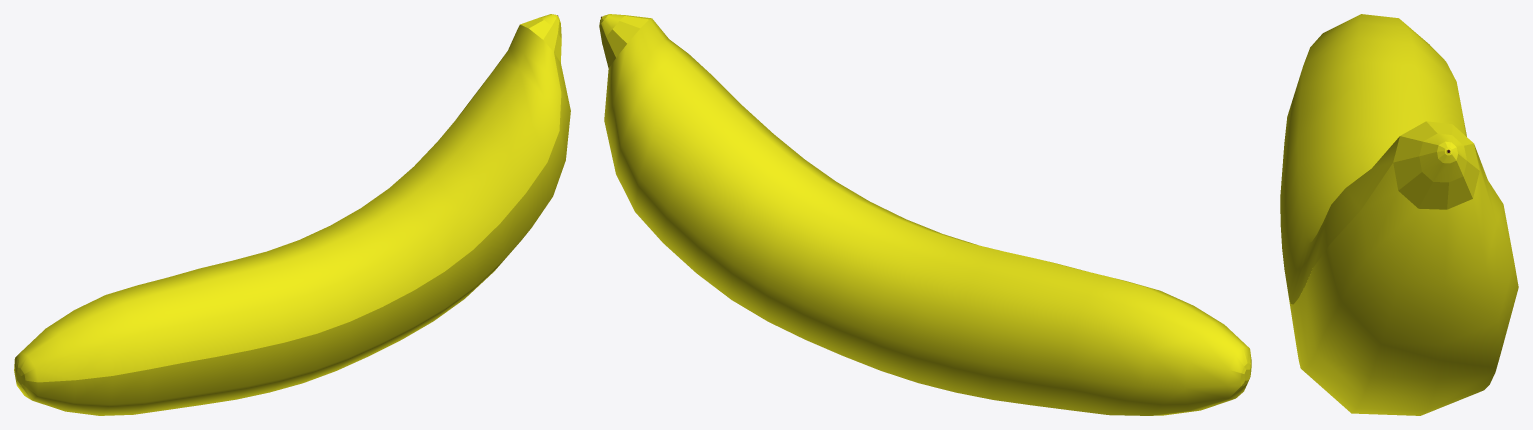
The model's file is banana.gltf.
3 renders of one model, left to right at view 1: azimuth 30°, elevation 25°; view 2: azimuth 150°, elevation 25°; view 3: azimuth 270°, elevation 25°, orthographic. The views are drawn at different scales.
Visible parts, largest first — view 1: pasted__loftedSurface4; view 2: pasted__loftedSurface4; view 3: pasted__loftedSurface4.
Part boxes in pixels (x1,y1,x2,y2): pasted__loftedSurface4: (14,14,570,415); pasted__loftedSurface4: (599,14,1251,415); pasted__loftedSurface4: (1280,14,1518,415).
Bounding box in the file's own units: 8.47 × 3.96 × 2.
